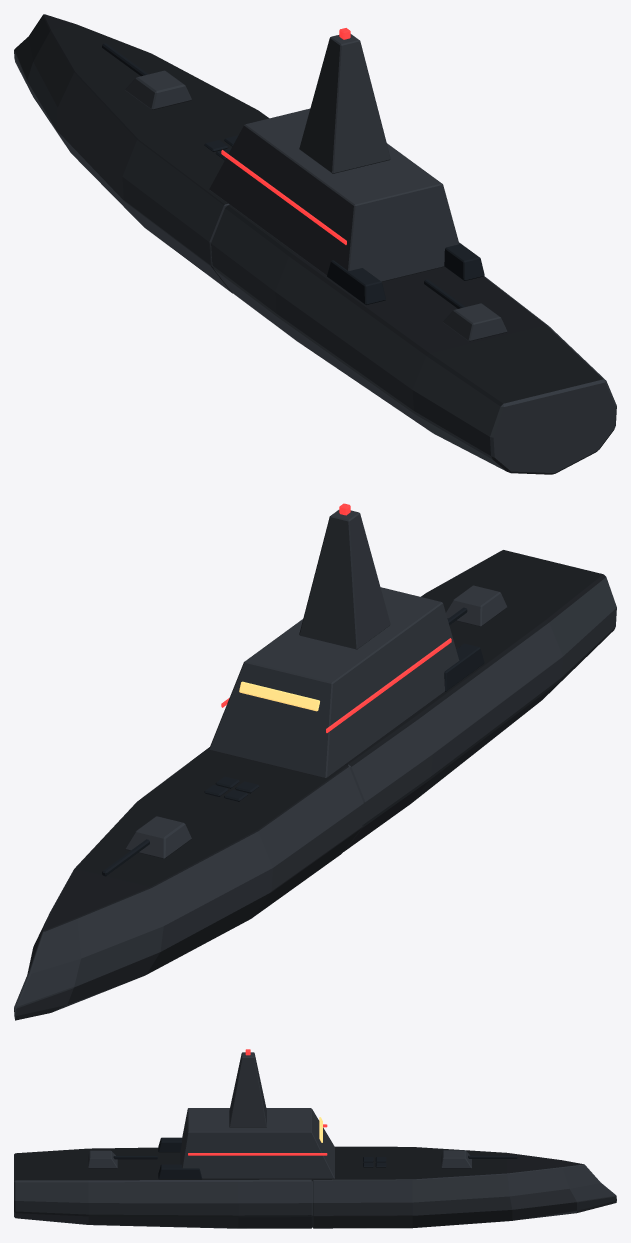
File: enemy_destroyer.glb
3 renders of one model, top to bottom at view 1: azimuth 30°, elevation 25°; view 2: azimuth 150°, elevation 25°; view 3: azimuth 270°, elevation 25°, orthographic. The views are drawn at different scales.
Visible parts, largest first — view 1: SternHull, SternTop, BowHull, BowTop; view 2: BowHull, SternTop, SternHull, BowTop; view 3: BowHull, SternHull, SternTop, BowTop.
Part boxes in pixels (x1=…): SternHull: x1=211, y1=205, x2=616, y2=474; SternTop: x1=209, y1=28, x2=507, y2=341; BowHull: x1=14, y1=14, x2=269, y2=293; BowTop: x1=102, y1=43, x2=238, y2=160; BowHull: x1=14, y1=747, x2=363, y2=1020; SternTop: x1=209, y1=503, x2=506, y2=778; SternHull: x1=343, y1=550, x2=616, y2=851; BowTop: x1=102, y1=776, x2=259, y2=876; BowHull: x1=313, y1=1146, x2=616, y2=1228; SternHull: x1=14, y1=1147, x2=312, y2=1228; SternTop: x1=88, y1=1049, x2=334, y2=1179; BowTop: x1=363, y1=1150, x2=517, y2=1168.
Size of the model in its own units: 3.67 by 7.01 by 21.82.
